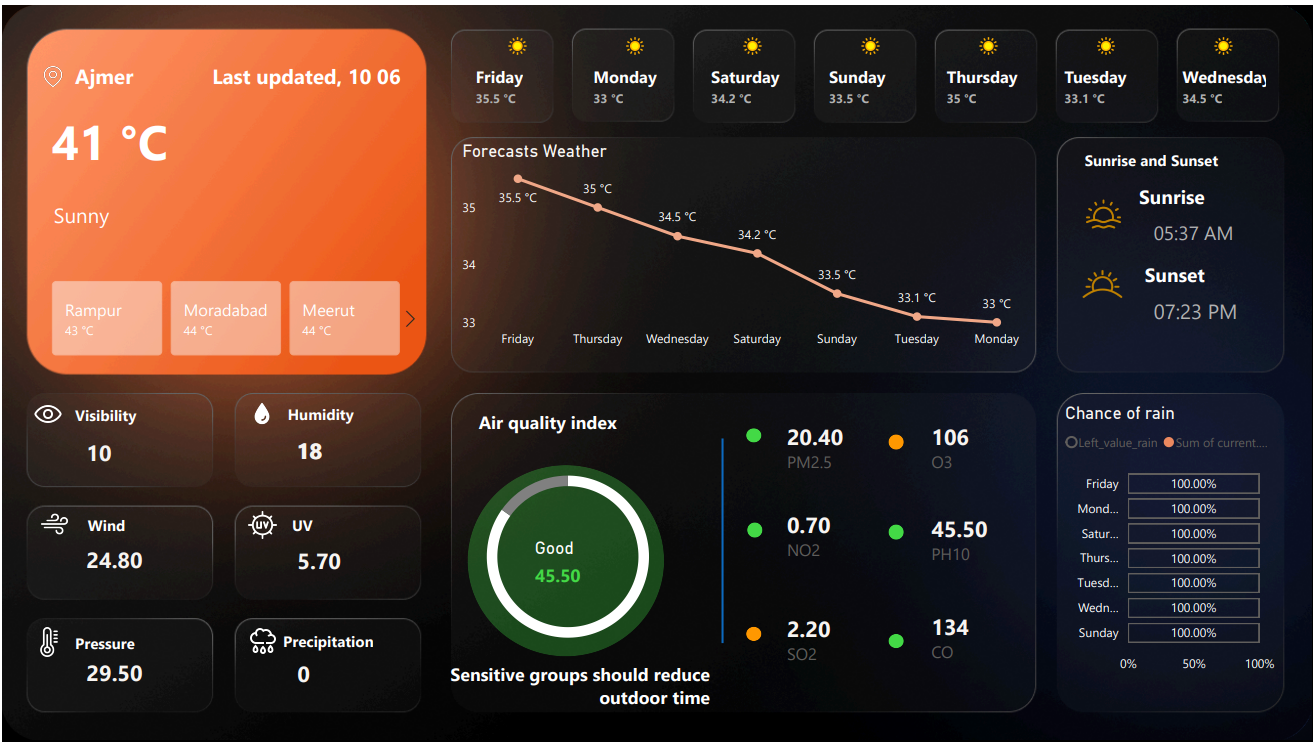

This screenshot's page, from the dashboard's own definition file:
{"tool":"powerbi","page":{"name":"Page 1","canvas":[1280,720],"ordinal":0},"visuals":[{"type":"shape","box":[454.5,448.9,192.7,187],"z":0},{"type":"advancedSlicerVisual","fields":{"Values":["Locations.location.name"],"Label":["_Measures.Curr_Temp_C"]},"box":[23.9,264,389.7,82.7],"z":1000},{"type":"shape","box":[49.3,77.9,322.9,108.2],"z":2000},{"type":"shape","box":[50.9,162.2,170.2,82.7],"z":3000},{"type":"shape","box":[71.6,27,170.2,82.7],"z":4000},{"type":"shape","box":[175,27,214.7,82.7],"z":5000},{"type":"image","box":[39.8,50.9,20.7,35],"z":6000},{"type":"image","box":[30.2,383.3,30.2,31.8],"z":7000},{"type":"shape","box":[71.6,370.6,128.8,57.3],"z":8000},{"type":"image","box":[241.8,388.1,25.4,20.7],"z":9000},{"type":"shape","box":[241.8,364.2,101.8,70],"z":10000},{"type":"image","box":[30.2,493.1,41.4,27],"z":11000},{"type":"shape","box":[49.3,480.4,71.6,54.1],"z":12000},{"type":"image","box":[211.6,493.1,84.3,28.6],"z":13000},{"type":"shape","box":[263.3,465.3,40.4,84],"z":14000},{"type":"image","box":[23.9,607.6,44.5,28.6],"z":15000},{"type":"shape","box":[71.6,594.9,82.7,55.7],"z":16000},{"type":"image","box":[216.3,606,76.3,30.2],"z":17000},{"type":"shape","box":[275.2,579,159.1,82.7],"z":18000},{"type":"multiRowCard","fields":{"Values":["Sum(current data.current.humidity)"]},"box":[282.7,415.2,105,56.5],"z":19000},{"type":"multiRowCard","fields":{"Values":["Sum(current data.current.wind_kph)"]},"box":[77.5,521.8,96.9,58.2],"z":20000},{"type":"multiRowCard","fields":{"Values":["Sum(current data.current.pressure_in)"]},"box":[77.5,631.7,105,56.5],"z":21000},{"type":"multiRowCard","fields":{"Values":["Sum(current data.current.uv)"]},"box":[284.3,523.4,105,56.5],"z":22000},{"type":"multiRowCard","fields":{"Values":["Sum(current data.current.precip_in)"]},"box":[284.3,633.3,105,56.5],"z":23000},{"type":"multiRowCard","fields":{"Values":["Sum(current data.current.humidity)"]},"box":[284.3,415.2,105,56.5],"z":24000},{"type":"multiRowCard","fields":{"Values":["Sum(current data.current.vis_km)"]},"box":[77.5,416.8,105,56.5],"z":25000},{"type":"advancedSlicerVisual","fields":{"Values":["forecast_day data.Day_name"]},"box":[445,18.3,808.3,98.3],"z":26000},{"type":"lineChart","title":"Forecasts Weather","fields":{"Category":["forecast_day data.Day_name"],"Y":["Sum(forecast_day data.forecast.forecastday.day.avgtemp_c)"]},"box":[445.4,132,563.1,211.6],"z":27000},{"type":"shape","box":[1021.2,116.1,167,70],"z":28000},{"type":"shape","box":[1124.6,179.7,125.7,82.7],"z":29000},{"type":"shape","box":[1124.6,256.1,155.9,82.7],"z":30000},{"type":"shape","box":[1008.4,151.1,167,70],"z":31000},{"type":"shape","box":[1053,227.5,122.5,70],"z":32000},{"type":"image","box":[1059.3,178.1,33.4,50.9],"z":33000},{"type":"image","box":[1033.9,246.5,81.1,50.9],"z":34000},{"type":"hundredPercentStackedBarChart","title":"Chance of rain","fields":{"Y":["current data.Left_value_rain","Sum(current data.current.chance_of_rain)"],"Category":["forecast_day data.Day_name"]},"box":[1034.2,387.6,213.5,274.1],"z":35000},{"type":"shape","box":[434.6,371,166.6,71.2],"z":36000},{"type":"multiRowCard","fields":{"Values":["Sum(current data.current.air_quality.pm10)"]},"box":[903.4,490.8,104.8,66.6],"z":37000},{"type":"multiRowCard","fields":{"Values":["Sum(current data.current.air_quality.co)"]},"box":[903.4,587.3,104.8,66.6],"z":38000},{"type":"multiRowCard","fields":{"Values":["Sum(current data.current.air_quality.no2)"]},"box":[762,487.5,104.8,66.6],"z":39000},{"type":"multiRowCard","fields":{"Values":["Sum(current data.current.air_quality.so2)"]},"box":[762,589,104.8,66.6],"z":40000},{"type":"multiRowCard","fields":{"Values":["Sum(current data.current.air_quality.o3)"]},"box":[903.4,401,104.8,66.6],"z":41000},{"type":"multiRowCard","fields":{"Values":["Sum(current data.current.air_quality.pm2_5)"]},"box":[762,401,104.8,66.6],"z":42000},{"type":"shape","box":[726.8,413.4,15,14],"z":43000},{"type":"shape","box":[726.8,607.2,15.1,13.6],"z":44000},{"type":"shape","box":[727.6,505,15,15],"z":45000},{"type":"shape","box":[866,419,15,15],"z":46000},{"type":"shape","box":[866,506.9,15,15],"z":47000},{"type":"shape","box":[866,613.5,15,15],"z":48000},{"type":"shape","box":[621,422.7,166.5,200.1],"z":49000},{"type":"multiRowCard","fields":{"Values":["Sum(current data.current.air_quality.pm10)"]},"box":[516.2,520,104.7,65.5],"z":50000},{"type":"donutChart","fields":{"Y":["current data.Left_value_PM10","Sum(current data.current.air_quality.pm10)"]},"box":[448.9,433.9,207.6,209.5],"z":51000},{"type":"shape","box":[413.4,628.5,278.7,71.1],"z":52000}]}

Visuals, with their boxes in screenshot pixels (x1, y1, x2, y2), scaled from the page's 1280x720 canvas onto the 1316x750 screenshot:
shape: 467,468,665,662
advancedSlicerVisual - Locations.location.name x _Measures.Curr_Temp_C: 25,275,425,361
shape: 51,81,383,194
shape: 52,169,227,255
shape: 74,28,249,114
shape: 180,28,401,114
image: 41,53,62,89
image: 31,399,62,432
shape: 74,386,206,446
image: 249,404,275,426
shape: 249,379,353,452
image: 31,514,74,542
shape: 51,500,124,557
image: 218,514,304,543
shape: 271,485,312,572
image: 25,633,70,663
shape: 74,620,159,678
image: 222,631,301,663
shape: 283,603,447,689
multiRowCard - Sum(current data.current.humidity): 291,432,399,491
multiRowCard - Sum(current data.current.wind_kph): 80,544,179,604
multiRowCard - Sum(current data.current.pressure_in): 80,658,188,717
multiRowCard - Sum(current data.current.uv): 292,545,400,604
multiRowCard - Sum(current data.current.precip_in): 292,660,400,719
multiRowCard - Sum(current data.current.humidity): 292,432,400,491
multiRowCard - Sum(current data.current.vis_km): 80,434,188,493
advancedSlicerVisual - forecast_day data.Day_name: 458,19,1289,121
"Forecasts Weather" lineChart: 458,138,1037,358
shape: 1050,121,1222,194
shape: 1156,187,1285,273
shape: 1156,267,1315,353
shape: 1037,157,1208,230
shape: 1083,237,1209,310
image: 1089,186,1123,239
image: 1063,257,1146,310
"Chance of rain" hundredPercentStackedBarChart: 1063,404,1283,689
shape: 447,386,618,461
multiRowCard - Sum(current data.current.air_quality.pm10): 929,511,1037,581
multiRowCard - Sum(current data.current.air_quality.co): 929,612,1037,681
multiRowCard - Sum(current data.current.air_quality.no2): 783,508,891,577
multiRowCard - Sum(current data.current.air_quality.so2): 783,614,891,683
multiRowCard - Sum(current data.current.air_quality.o3): 929,418,1037,487
multiRowCard - Sum(current data.current.air_quality.pm2_5): 783,418,891,487
shape: 747,431,763,445
shape: 747,633,763,647
shape: 748,526,763,542
shape: 890,436,906,452
shape: 890,528,906,544
shape: 890,639,906,655
shape: 638,440,810,649
multiRowCard - Sum(current data.current.air_quality.pm10): 531,542,638,610
donutChart - current data.Left_value_PM10 x Sum(current data.current.air_quality.pm10): 462,452,675,670
shape: 425,655,712,729
